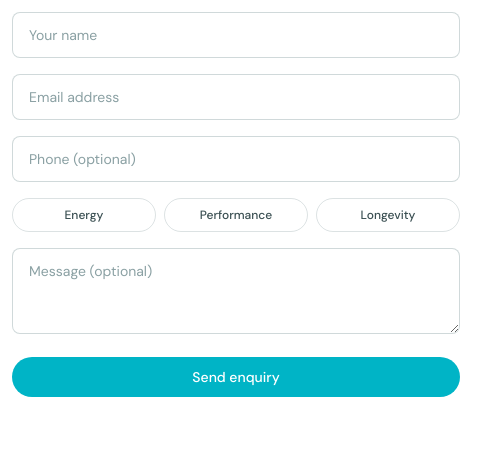
EnquiryForm › shows validation errors when name and email are empty on submit
What coordinates should you click on to do the following:
click the button "Send enquiry"
I would click on:
 (236, 377)
Its box is [12,357,460,397].
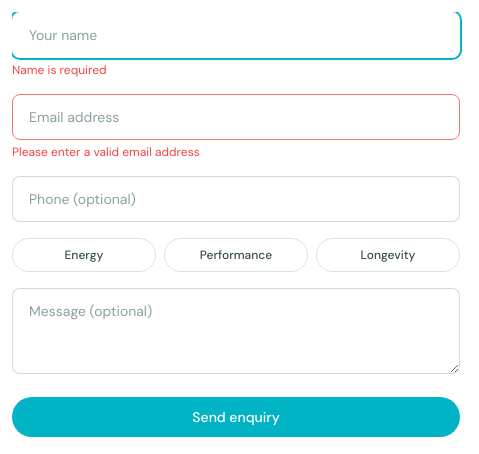
Expected: the text "Name is required" is shown, [12,62,106,78]
Expected: the text "Please enter a valid email address" is shown, [12,144,200,160]
